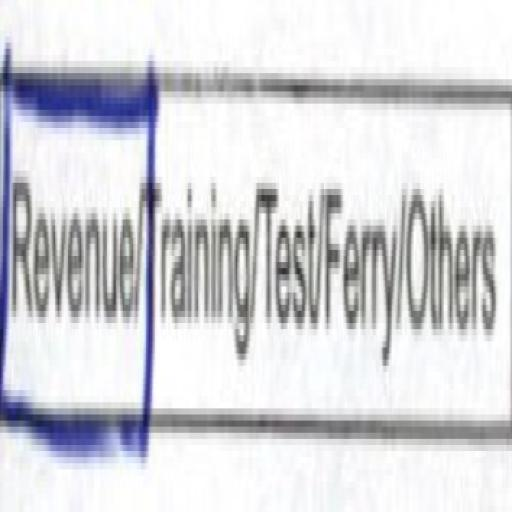check: (1, 6, 142, 512)
